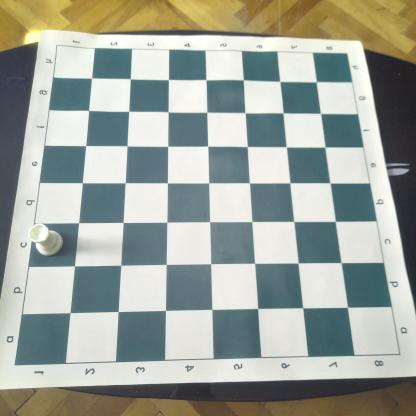white-rook: (26, 223, 65, 259)
